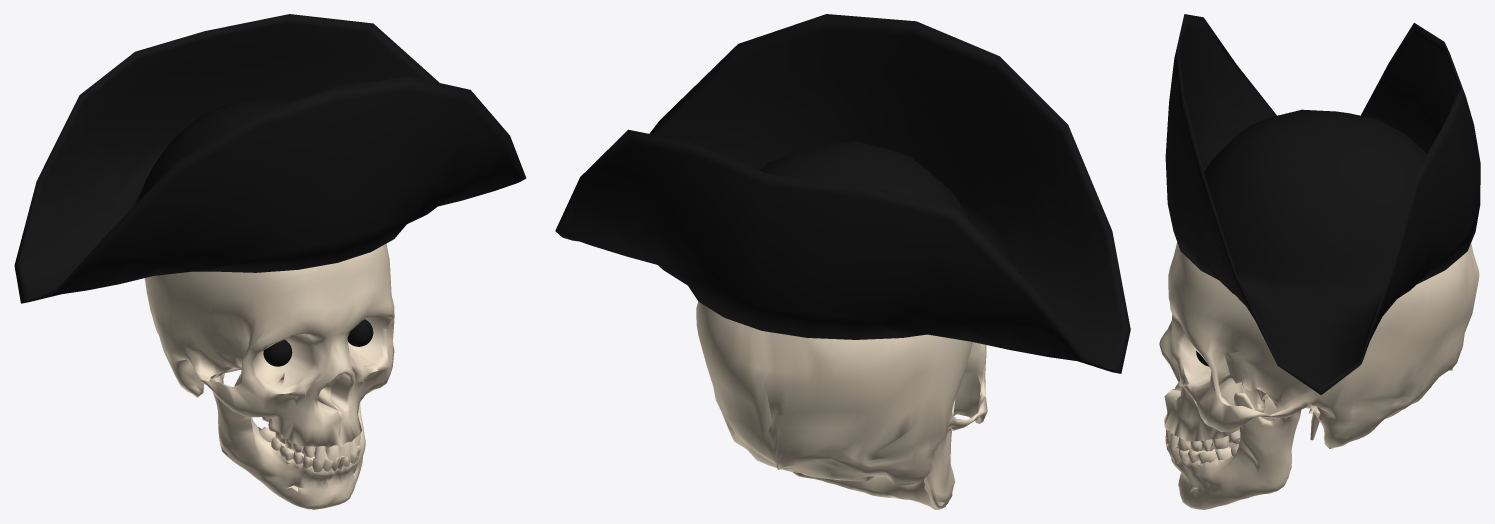
The model's file is Skull_EdPoly.fbx.
The picture shows the model from 3 angles, left to right: view 1: azimuth 30°, elevation 25°; view 2: azimuth 150°, elevation 25°; view 3: azimuth 270°, elevation 25°; orthographic projection. The views are drawn at different scales.
Visible parts, largest first — view 1: Sphere003; view 2: Sphere003; view 3: Sphere003.
Part boxes in pixels (x1,y1,x2,y2): Sphere003: (14, 14, 526, 509); Sphere003: (555, 14, 1130, 509); Sphere003: (1159, 14, 1480, 509).
Bounding box in the file's own units: 12.18 × 9.91 × 6.32.
